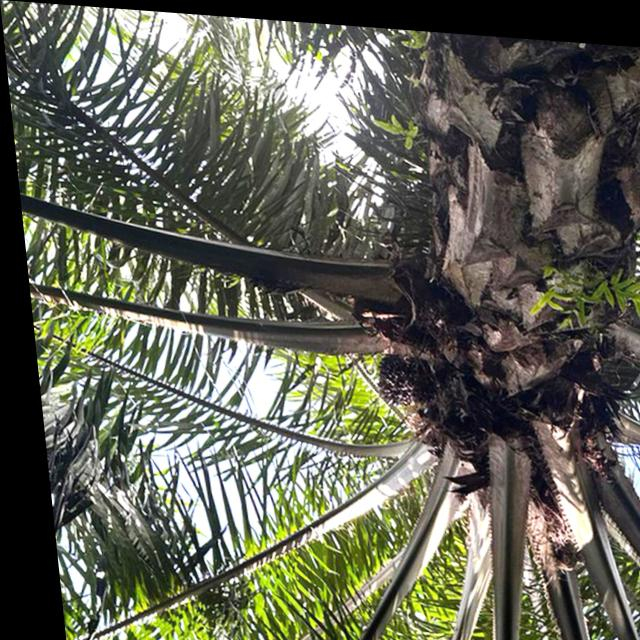almost: (364, 344, 423, 407)
